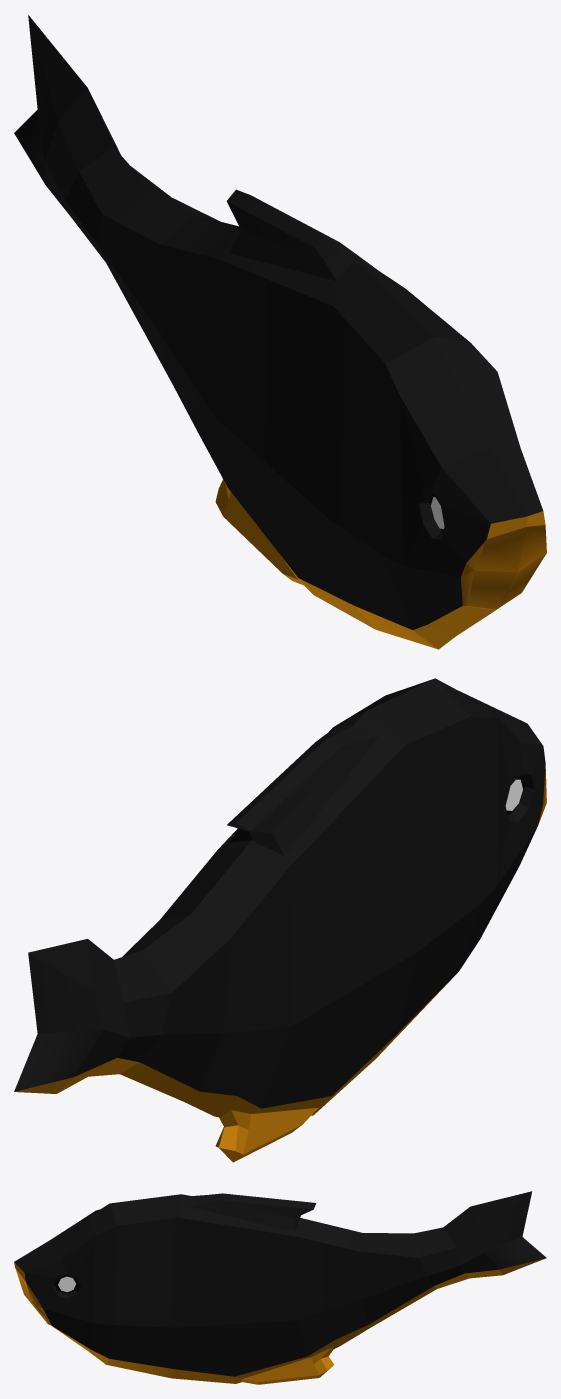
The model's file is Fish-2e.fbx.
3 views of the same model, one above another, from view 1: azimuth 30°, elevation 25°; view 2: azimuth 150°, elevation 25°; view 3: azimuth 270°, elevation 25° (orthographic). The views are drawn at different scales.
Parts seen in each view (by area): view 1: Fish-2e; view 2: Fish-2e; view 3: Fish-2e.
Boxes of the visible parts, x1,y1,x2,y2 form: Fish-2e: (14,15,546,649); Fish-2e: (14,678,546,1162); Fish-2e: (14,1191,546,1384).
Bounding box in the file's own units: 0.0708 × 0.257 × 0.6408.
